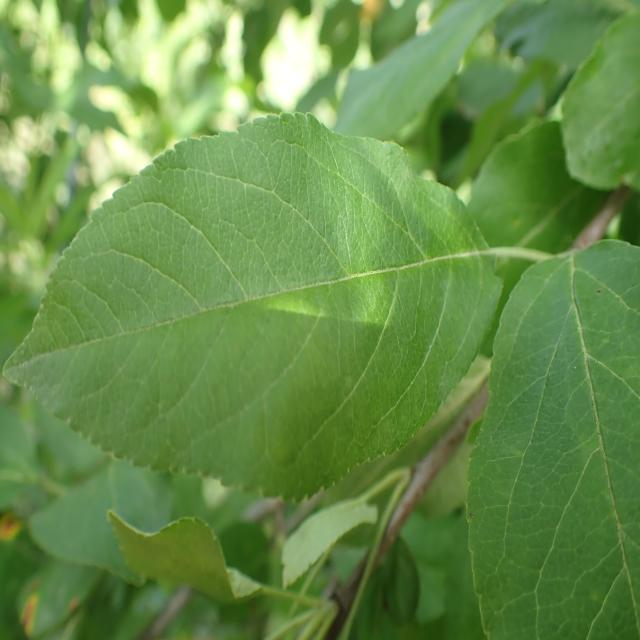healthy: (1, 110, 505, 502), (464, 237, 640, 639), (558, 8, 640, 190)
